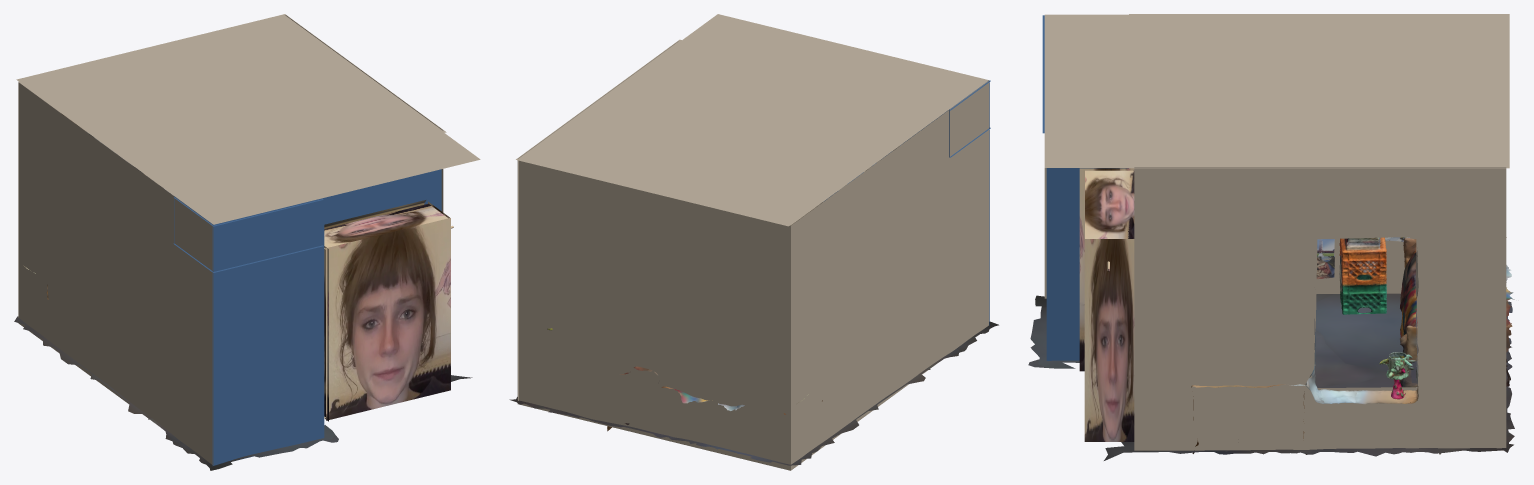
The model's file is room11.glb.
The picture shows the model from 3 angles, left to right: view 1: azimuth 30°, elevation 25°; view 2: azimuth 150°, elevation 25°; view 3: azimuth 270°, elevation 25°; orthographic projection. The views are drawn at different scales.
Parts seen in each view (by area): view 1: Plane, Plane.010, Plane.005, me.002, Plane.008, Plane.001, me.004, floor.001, me.003, door closet; view 2: Plane.003, Plane, Plane.010, Plane.008, floor.001; view 3: Plane.002, Plane.010, Plane.008, floor.001, me.005, Plane.004, crate new, me.004, bed, Plane, mesh.003, me.003 (+2 smaller).
Boxes of the visible parts, x1,y1,x2,y2 form: Plane: (18,82,213,465); Plane.010: (16,14,446,197); Plane.005: (212,198,324,465); me.002: (326,218,450,420); Plane.008: (18,81,480,224); Plane.001: (323,169,441,224); me.004: (324,203,447,249); floor.001: (14,316,472,470); me.003: (324,246,328,421); door closet: (324,200,426,228); Plane.003: (517,160,790,470); Plane: (791,81,988,470); Plane.010: (516,39,952,226); Plane.008: (682,14,988,225); floor.001: (509,321,998,465); Plane.002: (1134,167,1506,450); Plane.010: (1129,14,1509,168); Plane.008: (1044,14,1128,167); floor.001: (1028,293,1514,460); me.005: (1084,239,1134,441); Plane.004: (1046,168,1128,360); crate new: (1339,237,1386,314); me.004: (1085,170,1134,238); bed: (1400,237,1514,387); Plane: (1044,168,1416,298); mesh.003: (1305,247,1418,404); me.003: (1079,168,1134,371).
Size of the model in its own units: 1.21 by 0.969 by 1.41.
Materials: 145 (140 with a texture image).
